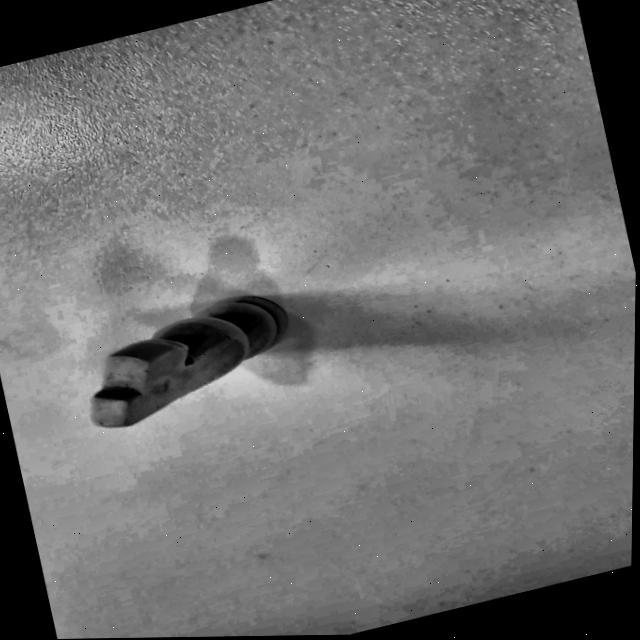white-knight: (54, 253, 339, 450)
